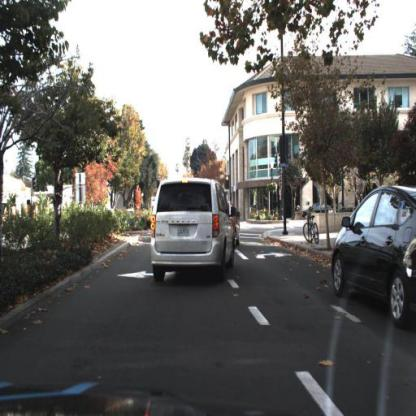car: (330, 181, 416, 332), (150, 174, 237, 286), (301, 203, 336, 228), (297, 201, 331, 224)
trafficLight-Red: (157, 179, 161, 192)
